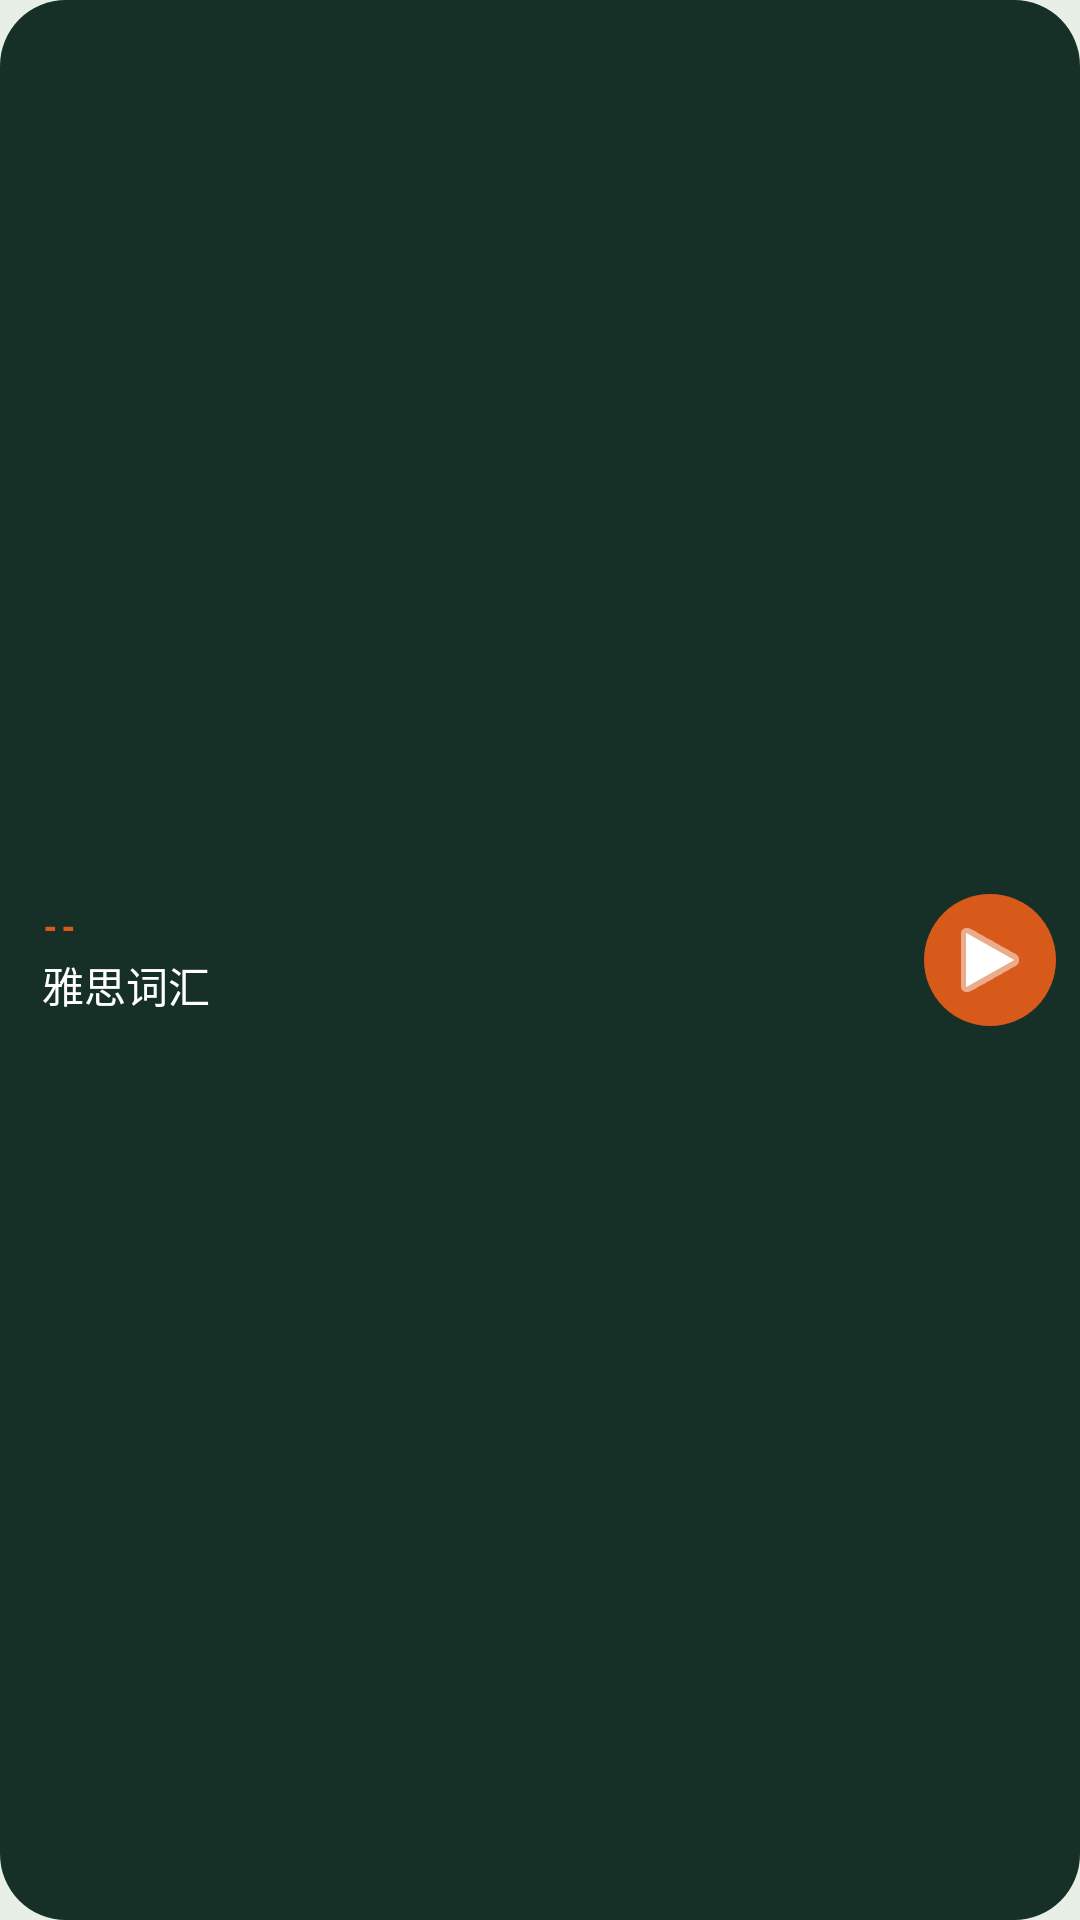

Where to tap for icons on this 1080×1920 app screen, as (x,y):
播放: (990,960)
